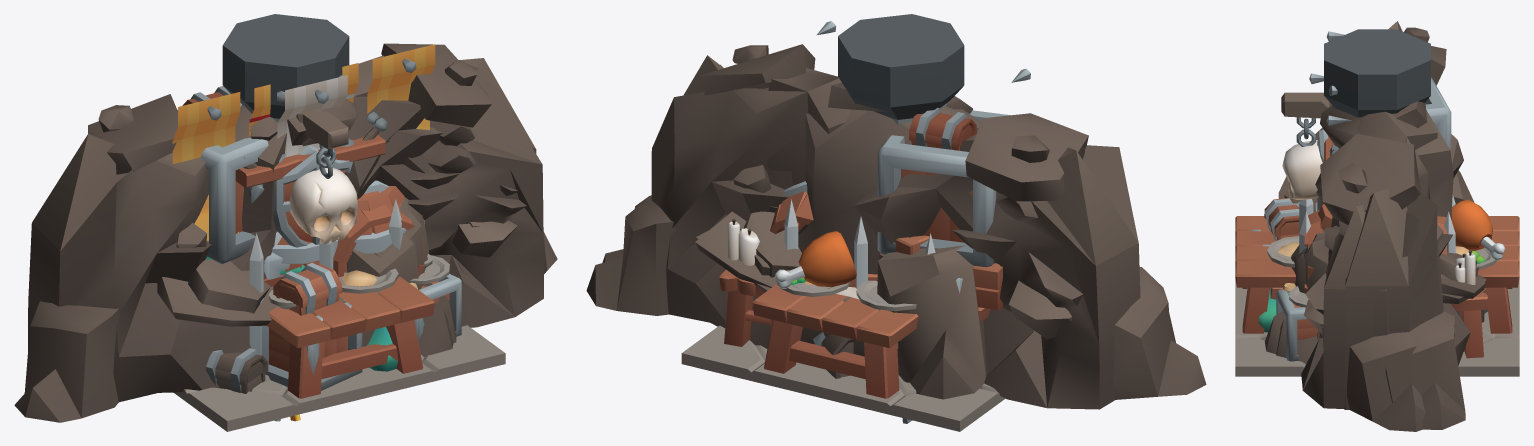
File: props.glb
3 renders of one model, left to right at view 1: azimuth 30°, elevation 25°; view 2: azimuth 150°, elevation 25°; view 3: azimuth 270°, elevation 25°, orthographic. The views are drawn at different scales.
Visible parts, largest first — view 1: rubble_large, box_stacked, pillar_decorated, rubble_half, table_long_decorated_A, Cube.14376, banner_triple_yellow, post_skull_skull, shelves, keg_decorated, bed_decorated, spikes (+2 smaller); view 2: rubble_large, rubble_half, table_long_decorated_A, pillar_decorated, Cube.14376, box_stacked, bed_decorated, keg_decorated, spikes, crates_stacked; view 3: rubble_half, rubble_large, table_long_decorated_A, pillar_decorated, Cube.14376, bed_decorated, box_stacked, post_skull_skull, Cube.572, spikes, keg_decorated, banner_triple_yellow.
Boxes of the visible parts, x1,y1,x2,y2 form: rubble_large: (14, 82, 557, 422); box_stacked: (177, 86, 424, 393); pillar_decorated: (222, 14, 387, 247); rubble_half: (344, 43, 536, 342); table_long_decorated_A: (266, 265, 434, 398); Cube.14376: (174, 325, 505, 431); banner_triple_yellow: (172, 44, 435, 241); post_skull_skull: (289, 144, 357, 244); shelves: (235, 134, 385, 286); keg_decorated: (206, 180, 424, 277); bed_decorated: (409, 254, 461, 341); spikes: (249, 199, 402, 355); rubble_large: (602, 64, 1206, 409); rubble_half: (586, 44, 850, 348); table_long_decorated_A: (752, 231, 918, 398); pillar_decorated: (838, 14, 964, 125); Cube.14376: (681, 325, 1005, 431); box_stacked: (813, 108, 1010, 378); bed_decorated: (719, 218, 898, 348); keg_decorated: (770, 181, 1002, 321); spikes: (784, 199, 935, 288); crates_stacked: (848, 235, 929, 287); rubble_half: (1276, 112, 1485, 429); rubble_large: (1264, 21, 1486, 431); table_long_decorated_A: (1235, 199, 1519, 333); pillar_decorated: (1309, 29, 1430, 210); Cube.14376: (1235, 278, 1519, 376); bed_decorated: (1270, 250, 1488, 361); box_stacked: (1247, 77, 1487, 332); post_skull_skull: (1282, 117, 1322, 203); Cube.572: (1281, 92, 1331, 118); spikes: (1299, 195, 1455, 253); keg_decorated: (1304, 210, 1446, 293); banner_triple_yellow: (1326, 31, 1351, 126).
Size of the model in its own units: 8.13 by 5.2 by 4.
Materials: 2 (2 with a texture image).
